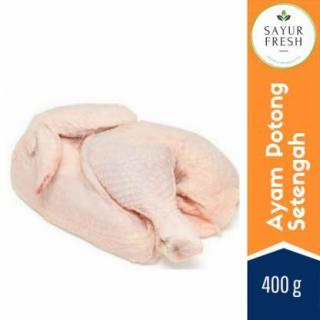Ayam: (12, 104, 239, 263)
